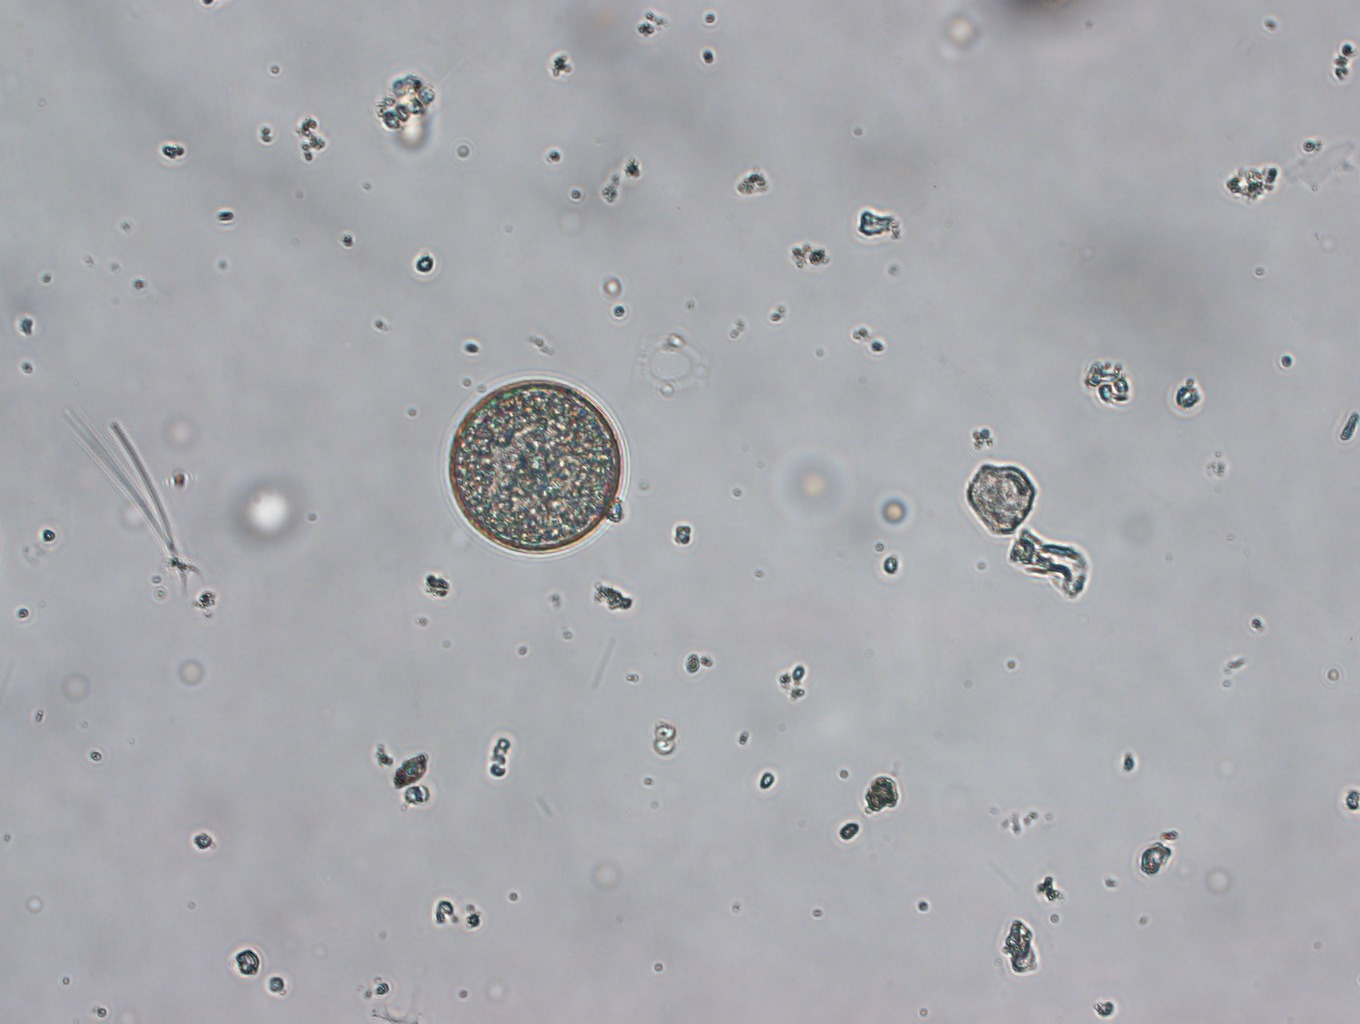coscinodiscus: (448, 378, 622, 556)
